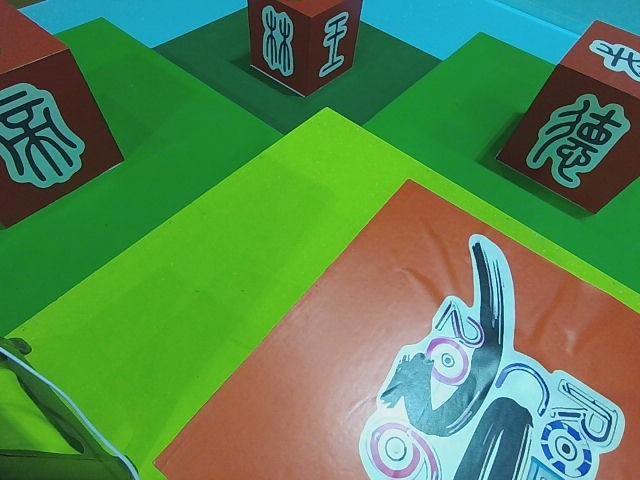R1: (153, 180, 640, 480)
R2 Fake: (496, 21, 640, 216), (3, 2, 124, 231), (247, 0, 362, 96)
